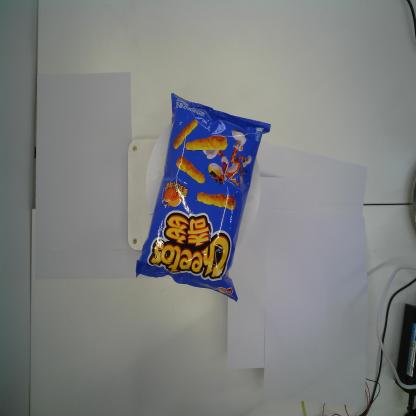Puffed Food: (133, 91, 271, 303)
